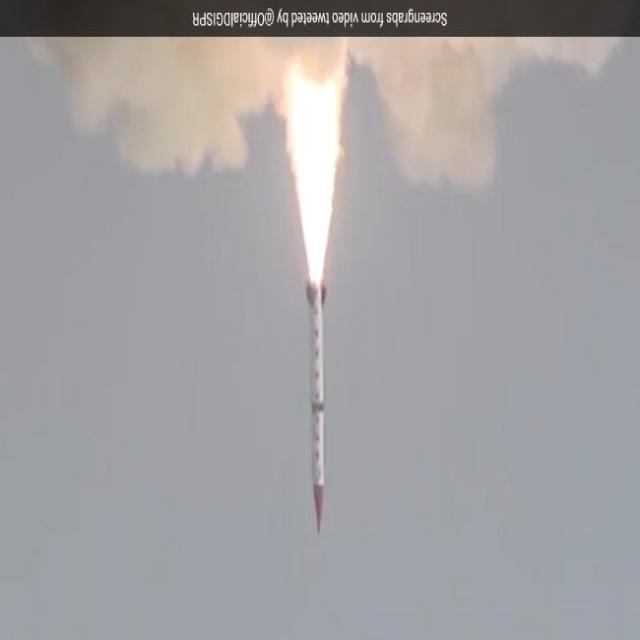missile: (298, 278, 336, 536)
